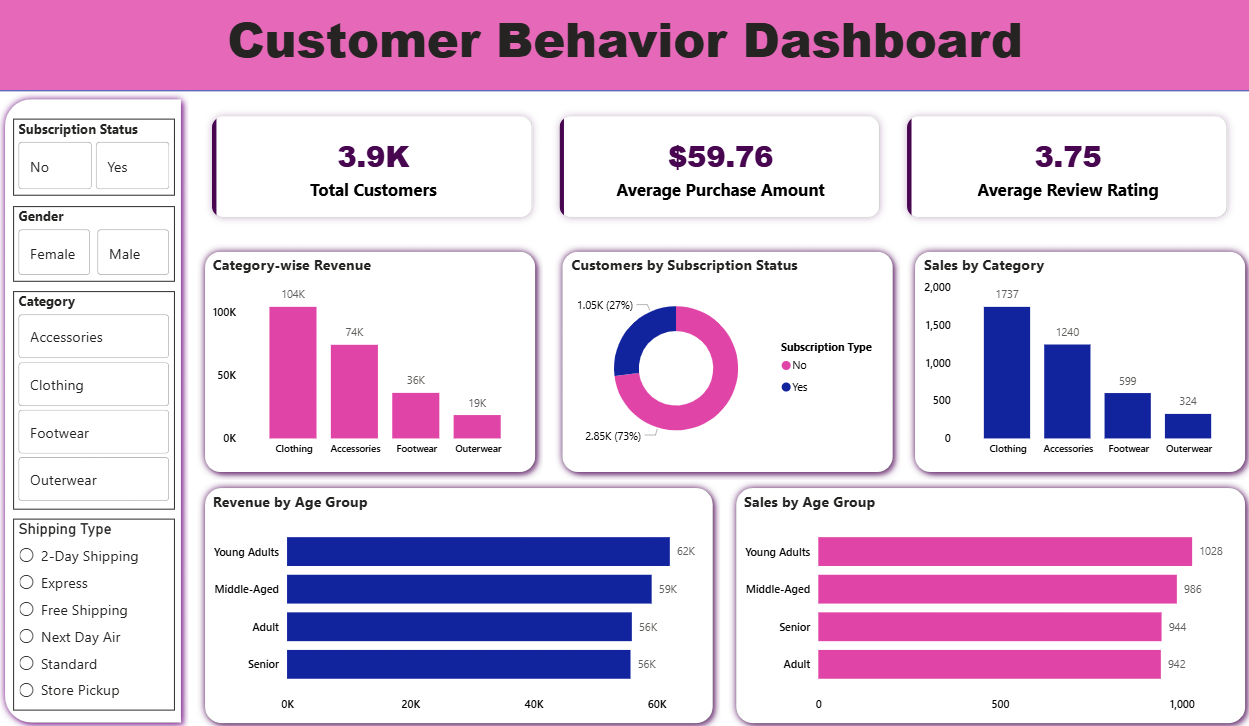

Layout of this report page (visuals, bound fields, positions):
{"tool":"powerbi","page":{"name":"Page 1","canvas":[1400,820],"ordinal":0},"visuals":[{"type":"cardVisual","fields":{"Data":["customer_behavior.Number of Customers","customer_behavior.Average Purchase Amount","customer_behavior.Average Review Rating"]},"box":[211.7,107.2,1187.9,169.9],"z":1000},{"type":"shape","box":[0,0,1499.9,107.2],"z":2000},{"type":"textbox","box":[0,5.6,1399.6,96.1],"z":3000},{"type":"shape","box":[222.8,277.1,385.8,263.2],"z":4000},{"type":"clusteredColumnChart","title":"Category-wise Revenue","fields":{"Y":["Sum(customer_behavior.purchase_amount)"],"Category":["customer_behavior.category"]},"box":[235.4,288.3,360.7,234],"z":5000},{"type":"shape","box":[0,107.7,213.9,712.4],"z":7000},{"type":"advancedSlicerVisual","fields":{"Values":["customer_behavior.subscription_status"]},"box":[17.7,138.3,180.1,85.2],"z":8000},{"type":"advancedSlicerVisual","fields":{"Values":["customer_behavior.gender"]},"box":[17.7,234.8,180.1,83.6],"z":9000},{"type":"shape","box":[621.1,277.1,385.8,263.2],"z":10000},{"type":"advancedSlicerVisual","fields":{"Values":["customer_behavior.category"]},"box":[17.7,329.7,180.1,242.8],"z":11000},{"type":"listSlicer","fields":{"Values":["customer_behavior.shipping_type"]},"box":[17.7,583.7,180.1,213.9],"z":12000},{"type":"donutChart","title":"Customers by Subscription Status","fields":{"Category":["customer_behavior.subscription_status"],"Y":["CountNonNull(customer_behavior.customer_id)"]},"box":[635.1,288.3,359.3,234],"z":13000},{"type":"shape","box":[1013.9,277.1,385.8,263.2],"z":15000},{"type":"clusteredColumnChart","title":"Sales by Category","fields":{"Category":["customer_behavior.category"],"Y":["CountNonNull(customer_behavior.customer_id)"]},"box":[1027.8,288.3,359.3,234],"z":15500},{"type":"shape","box":[222.8,540.4,583.5,279.9],"z":15501},{"type":"clusteredBarChart","title":"Revenue by Age Group","fields":{"Y":["Sum(customer_behavior.purchase_amount)"],"Category":["customer_behavior.age_group"]},"box":[235.4,552.9,559.9,256.3],"z":15502},{"type":"shape","box":[814.7,540.4,584.9,279.9],"z":15503},{"type":"clusteredBarChart","title":"Sales by Age Group","fields":{"Category":["customer_behavior.age_group"],"Y":["CountNonNull(customer_behavior.customer_id)"]},"box":[827.2,552.9,559.9,256.3],"z":15504}]}

Visuals, with their boxes in screenshot pixels (x1, y1, x2, y2), scaled from the page's 1400x820 canvas onto the 1249x726 screenshot:
cardVisual - customer_behavior.Number of Customers x customer_behavior.Average Purchase Amount: locate(189, 95, 1248, 245)
shape: locate(0, 0, 1248, 95)
textbox: locate(0, 5, 1248, 90)
shape: locate(199, 245, 543, 478)
"Category-wise Revenue" clusteredColumnChart: locate(210, 255, 532, 462)
shape: locate(0, 95, 191, 725)
advancedSlicerVisual - customer_behavior.subscription_status: locate(16, 122, 176, 198)
advancedSlicerVisual - customer_behavior.gender: locate(16, 208, 176, 282)
shape: locate(554, 245, 898, 478)
advancedSlicerVisual - customer_behavior.category: locate(16, 292, 176, 507)
listSlicer - customer_behavior.shipping_type: locate(16, 517, 176, 706)
"Customers by Subscription Status" donutChart: locate(567, 255, 887, 462)
shape: locate(905, 245, 1248, 478)
"Sales by Category" clusteredColumnChart: locate(917, 255, 1237, 462)
shape: locate(199, 478, 719, 725)
"Revenue by Age Group" clusteredBarChart: locate(210, 490, 710, 716)
shape: locate(727, 478, 1248, 725)
"Sales by Age Group" clusteredBarChart: locate(738, 490, 1237, 716)
